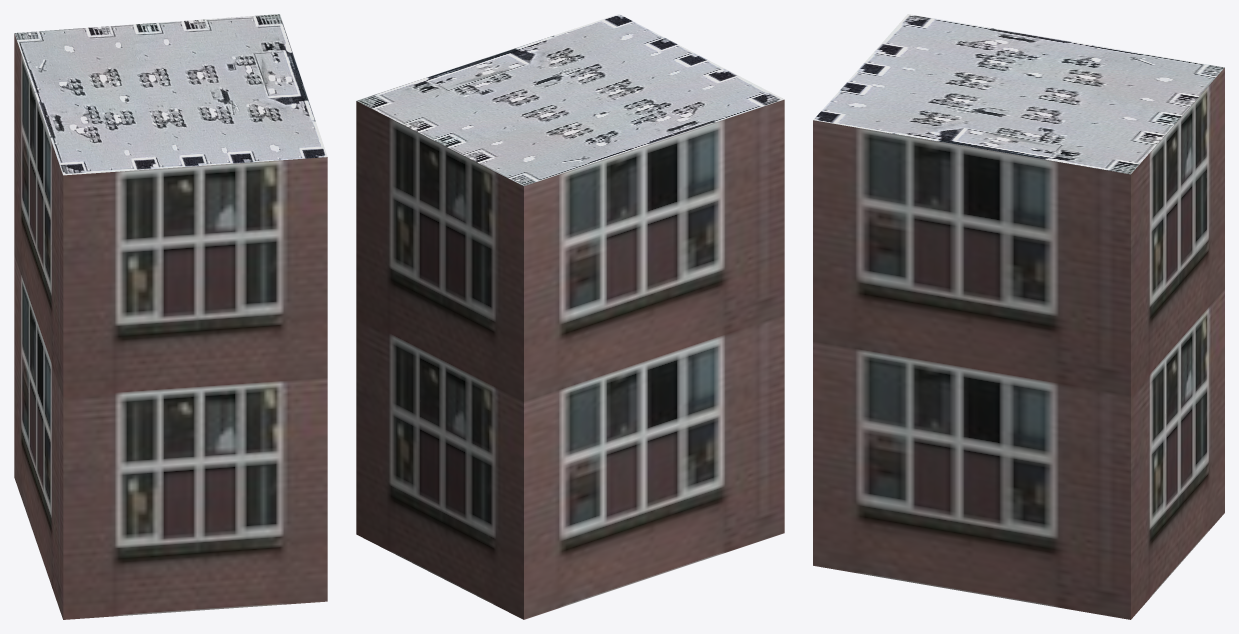
Rendered from ResTex__2672.fbx.
3 renders of one model, left to right at view 1: azimuth 30°, elevation 25°; view 2: azimuth 150°, elevation 25°; view 3: azimuth 270°, elevation 25°, orthographic. The views are drawn at different scales.
Parts seen in each view (by area): view 1: CityEngineMaterial_12_m, CityEngineMaterial_m; view 2: CityEngineMaterial_12_m, CityEngineMaterial_m; view 3: CityEngineMaterial_12_m, CityEngineMaterial_m.
Part boxes in pixels (left/top/right/bottom): CityEngineMaterial_12_m: left=14, top=33, right=327, bottom=619; CityEngineMaterial_m: left=14, top=14, right=327, bottom=175; CityEngineMaterial_12_m: left=356, top=99, right=784, bottom=619; CityEngineMaterial_m: left=356, top=14, right=784, bottom=185; CityEngineMaterial_12_m: left=813, top=68, right=1224, bottom=619; CityEngineMaterial_m: left=813, top=14, right=1224, bottom=174.
Size of the model in its own units: 4.63 by 6 by 5.03.
Materials: 2 (2 with a texture image).
